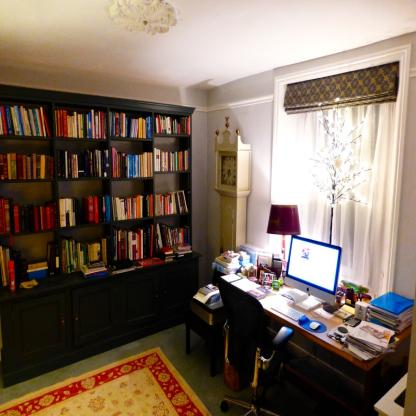book: (327, 285, 413, 366), (0, 238, 63, 290), (0, 198, 58, 237), (63, 231, 111, 278), (58, 194, 113, 231), (52, 107, 108, 142), (57, 148, 112, 179), (112, 225, 156, 263), (0, 107, 50, 136), (0, 154, 55, 179), (108, 112, 155, 140), (110, 148, 154, 176), (109, 255, 164, 277), (209, 249, 259, 272), (114, 194, 154, 221), (157, 220, 192, 250), (153, 145, 191, 172), (156, 241, 193, 267), (155, 188, 188, 217), (154, 113, 193, 136)
